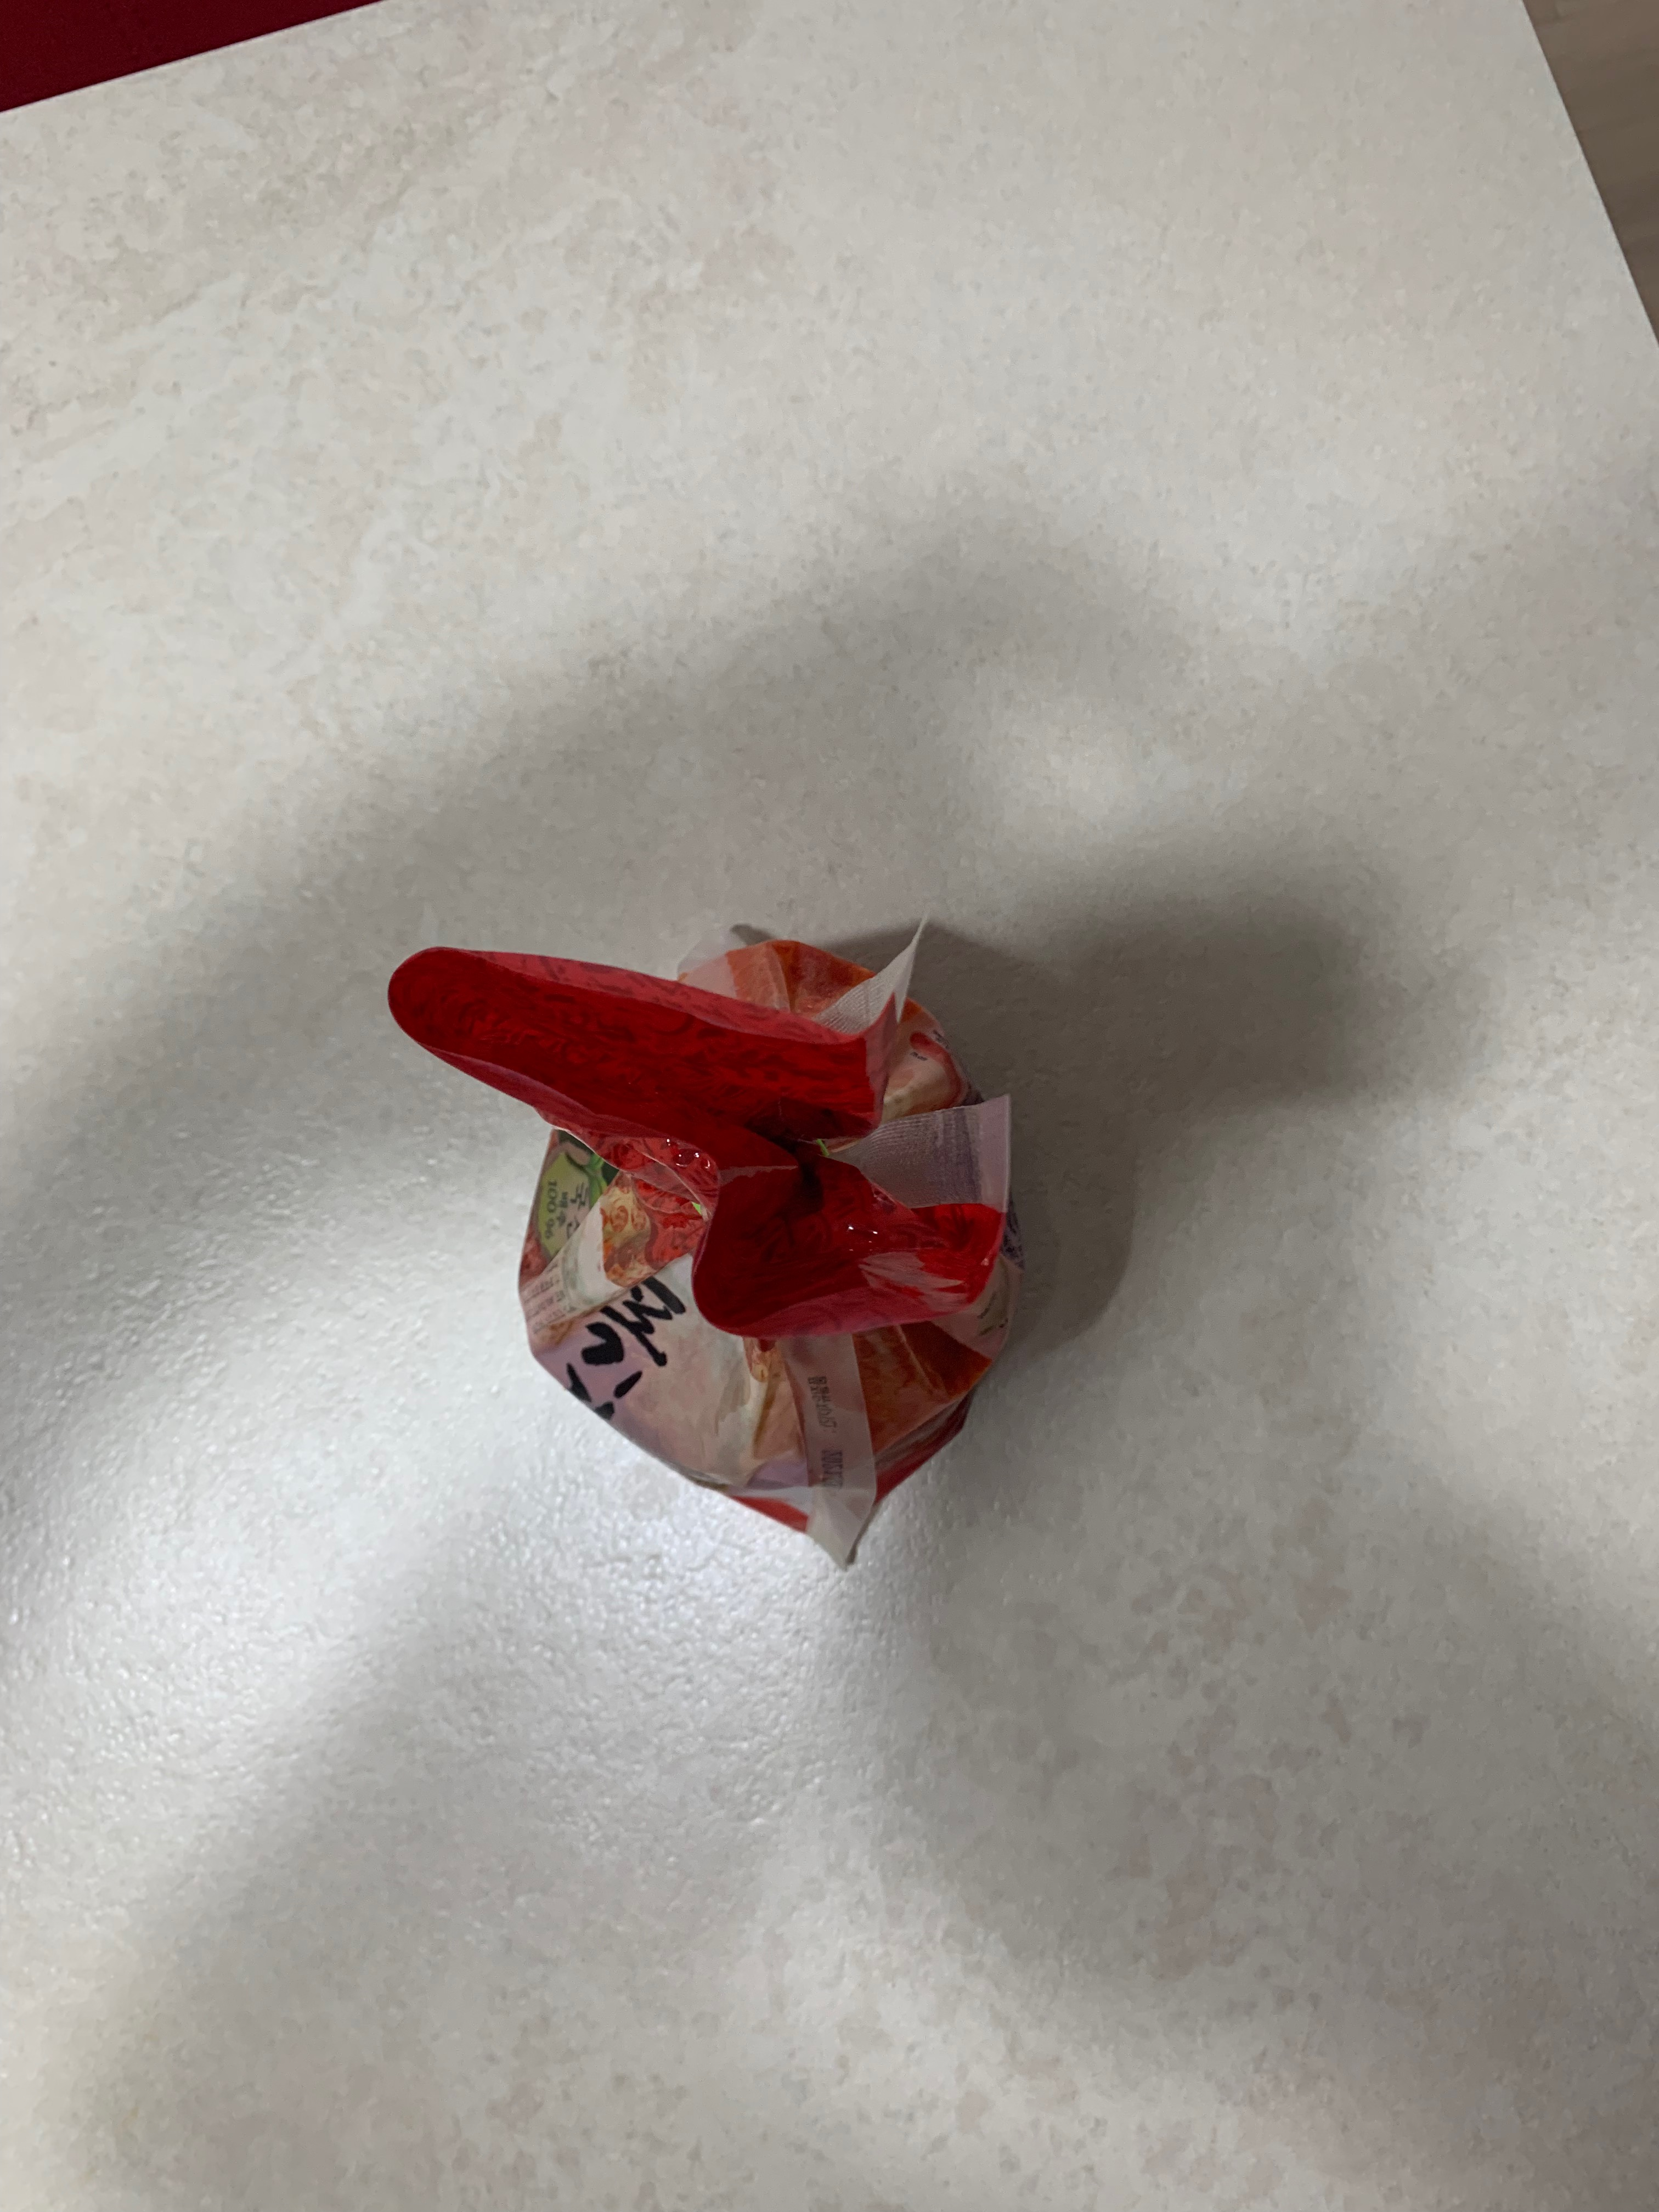kimchi: (385, 939, 1011, 1529)
